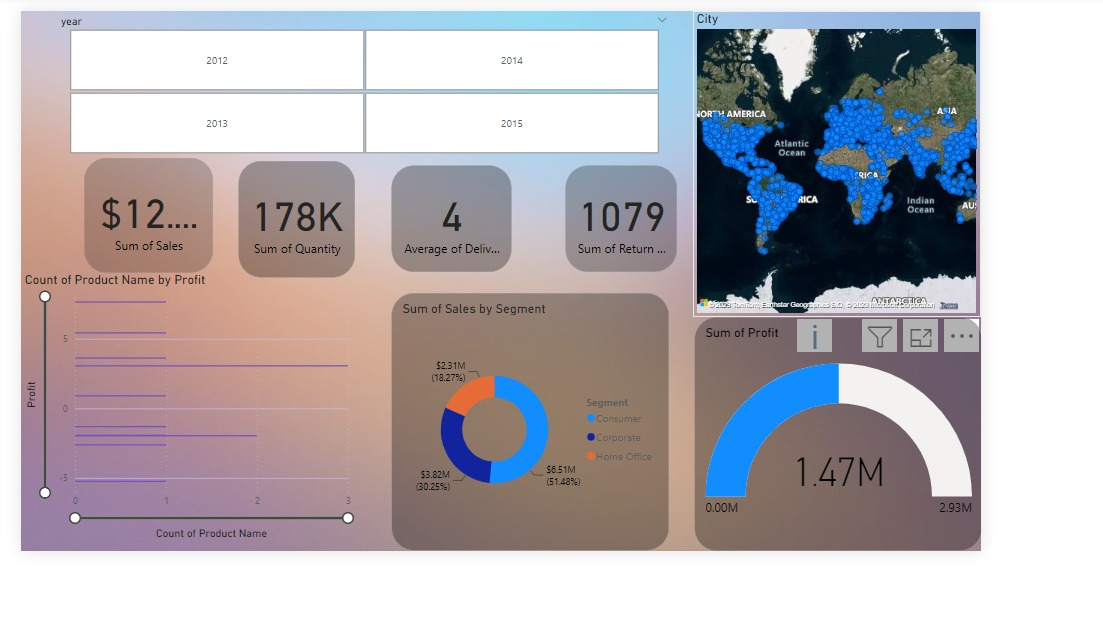

What the dashboard file says about the page in this screenshot:
{"tool":"powerbi","page":{"name":"Page 1","canvas":[1280,720],"ordinal":0},"visuals":[{"type":"card","fields":{"Values":["Sum(Orders.Sales)"]},"box":[106.7,200,171.7,141.7],"z":0},{"type":"card","fields":{"Values":["Sum(Orders.Quantity)"]},"box":[345,205,148.3,141.7],"z":1},{"type":"card","fields":{"Values":["Avg(Orders.Delivery Days)"]},"box":[533.3,200,160,141.7],"z":2},{"type":"card","fields":{"Values":["Sum(Returns.Return orders)"]},"box":[725,205,148.3,141.7],"z":5},{"type":"map","fields":{"Category":["Orders.City"]},"box":[896.7,0,383.3,408.3],"z":6},{"type":"barChart","fields":{"Category":["Orders.Profit"],"Y":["CountNonNull(Orders.Product Name)"]},"box":[0,348.3,445,360],"z":7},{"type":"donutChart","fields":{"Category":["Orders.Segment"],"Y":["Sum(Orders.Sales)"]},"box":[493.3,376.7,370,343.3],"z":8},{"type":"gauge","fields":{"Y":["Sum(Orders.Profit)"]},"box":[897,408,383,312],"z":9},{"type":"slicer","fields":{"Values":["Orders.year"]},"box":[40,0,834,196],"z":10}]}

Visuals, with their boxes in screenshot pixels (x1, y1, x2, y2), scaled from the page's 1280x720 canvas onto the 1103x626 screenshot:
card - Sum(Orders.Sales): [92,174,240,297]
card - Sum(Orders.Quantity): [297,178,425,301]
card - Avg(Orders.Delivery Days): [460,174,597,297]
card - Sum(Returns.Return orders): [625,178,753,301]
map - Orders.City: [773,0,1102,355]
barChart - Orders.Profit x CountNonNull(Orders.Product Name): [0,303,383,616]
donutChart - Orders.Segment x Sum(Orders.Sales): [425,328,744,625]
gauge - Sum(Orders.Profit): [773,355,1102,625]
slicer - Orders.year: [34,0,753,170]
